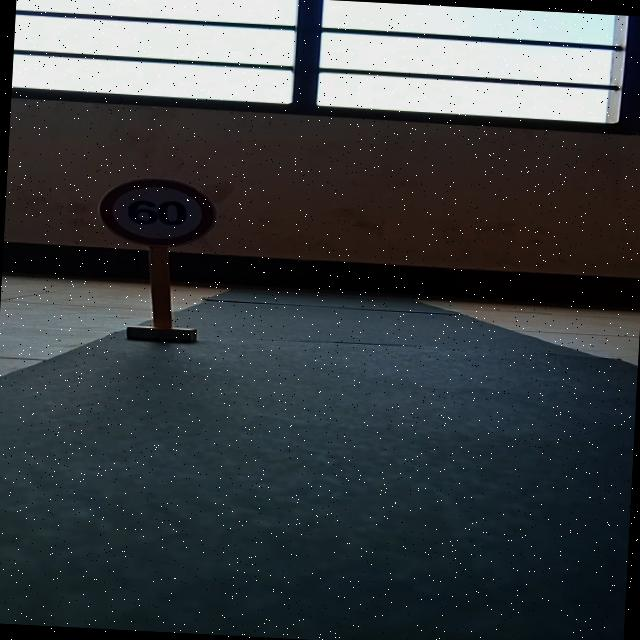Speed60: (88, 170, 221, 253)
